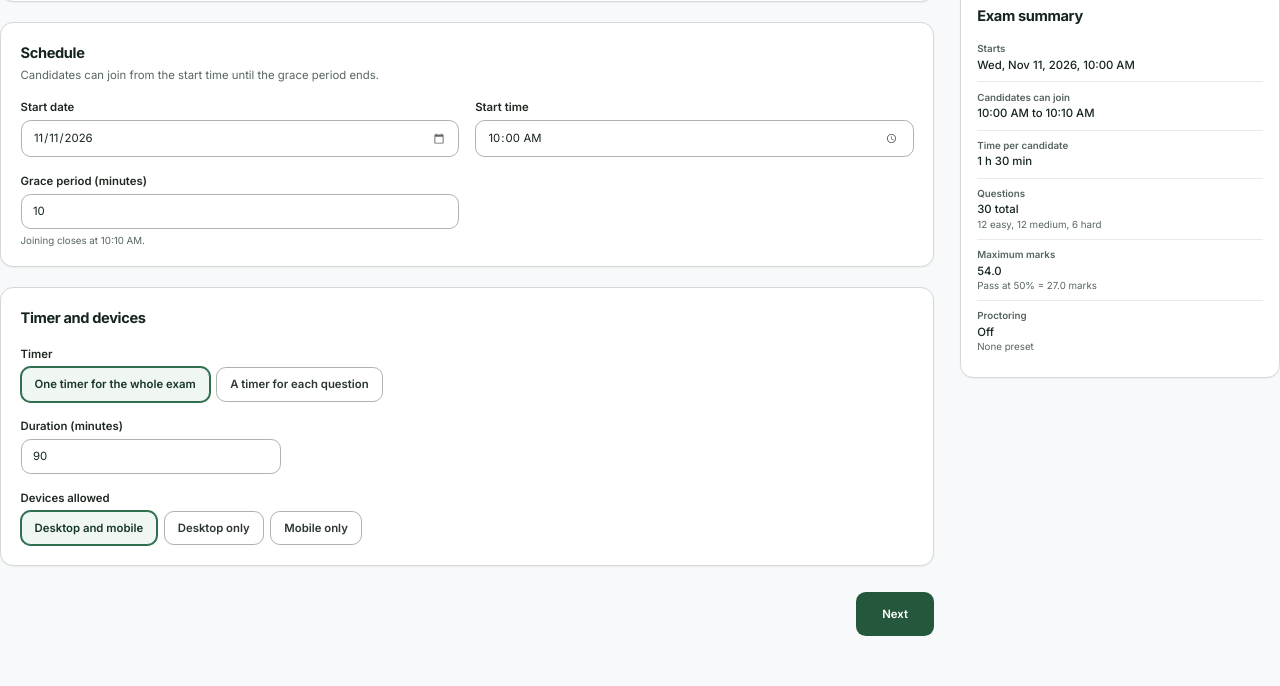
Scenario: Batch 2: Host Portal Comprehensive Automated Tests › Create and Edit Exam › validates required fields when submitting empty form
The width and height of the screenshot is (1280, 686).
(page scrolled)
// Attempt to proceed past Step 1 (Basics) with empty fields
Click the button "Next": x=895, y=614 [856,592,934,636]
(page scrolled)
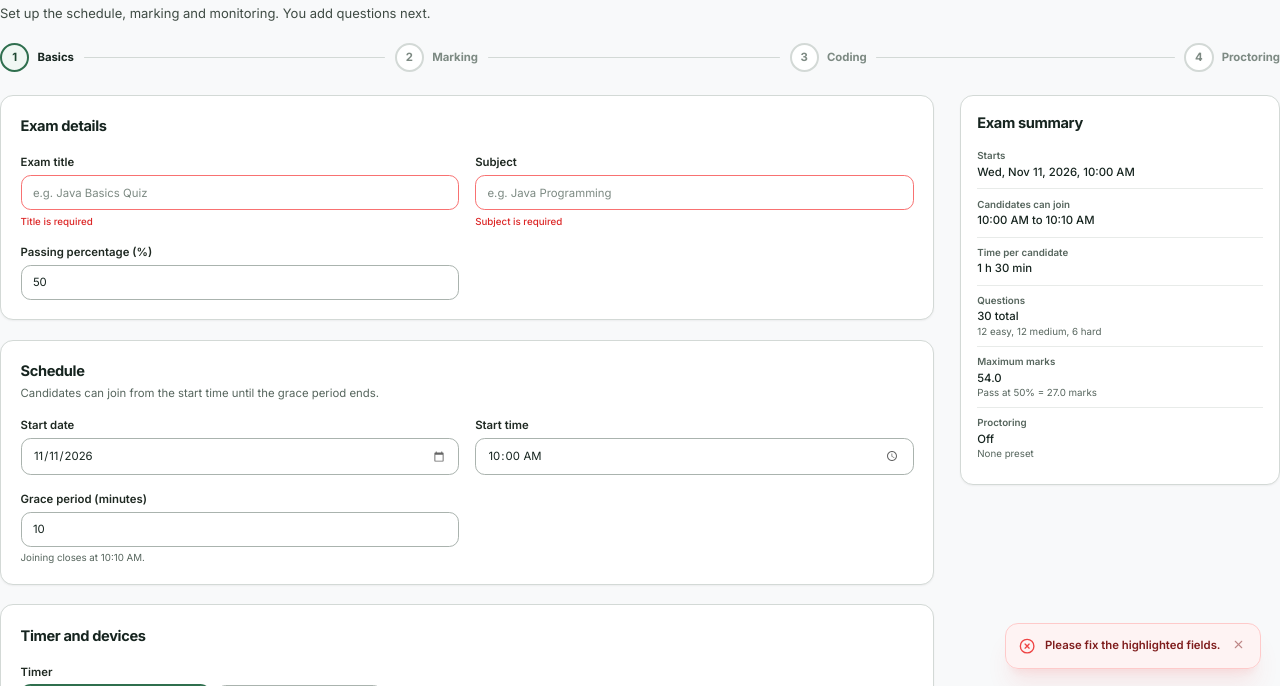
Now the text "Title is required" is shown, box [20,216,93,227]
Now the text "Subject is required" is shown, box [475,216,562,227]
